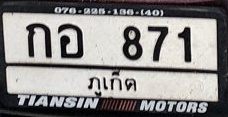txt01: (24, 21, 54, 60)
txt38: (56, 22, 85, 60)
